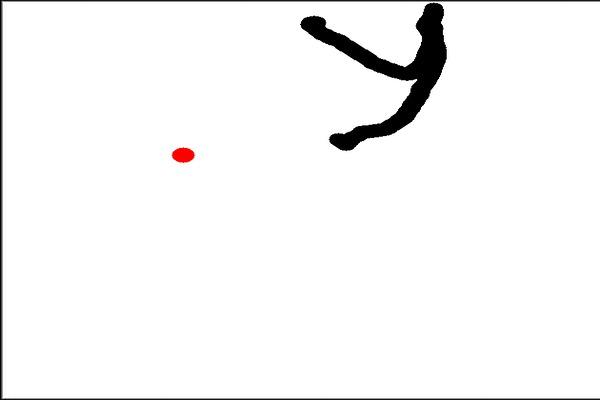Y: (291, 0, 460, 156)
